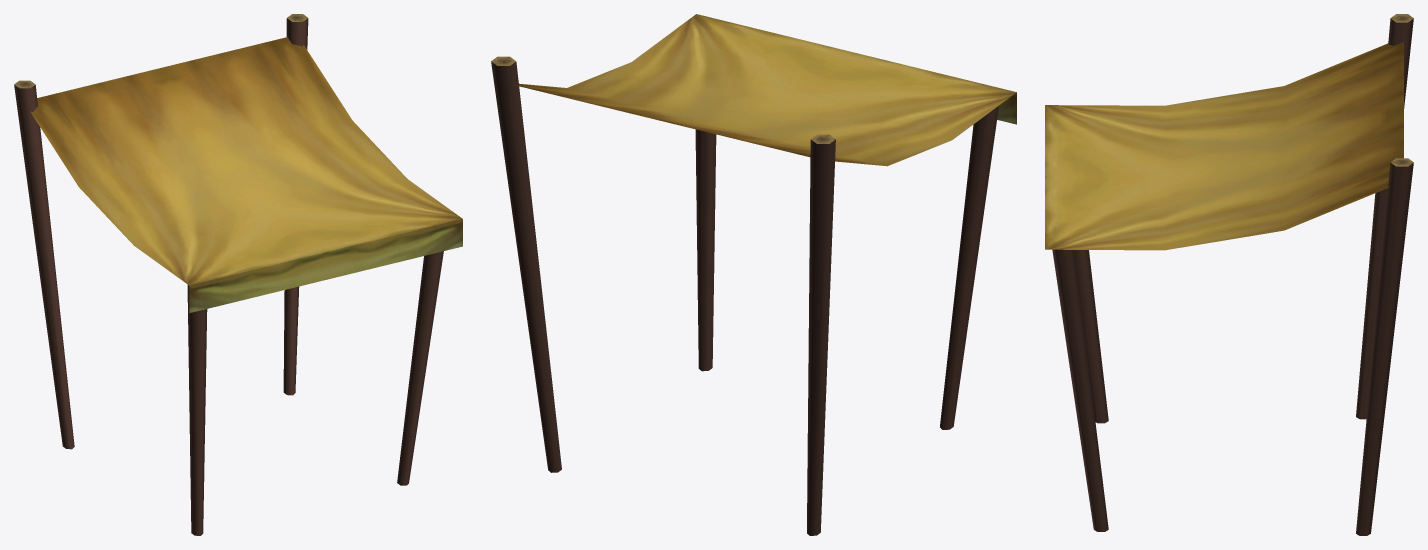
File: zhucheng_tanwei_1.FBX
3 views of the same model, side by side, from view 1: azimuth 30°, elevation 25°; view 2: azimuth 150°, elevation 25°; view 3: azimuth 270°, elevation 25° (orthographic). The views are drawn at different scales.
Visible parts, largest first — view 1: zhucheng_tanwei_1; view 2: zhucheng_tanwei_1; view 3: zhucheng_tanwei_1.
Part boxes in pixels (x1,y1,x2,y2): zhucheng_tanwei_1: [14, 14, 462, 535]; zhucheng_tanwei_1: [491, 14, 1016, 535]; zhucheng_tanwei_1: [1045, 14, 1413, 535].
Bounding box in the file's own units: 269 × 317 × 275.
